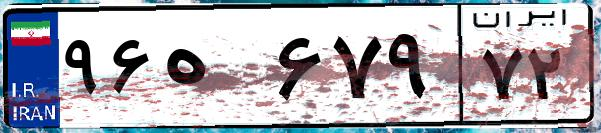2: (525, 38, 570, 115)
6: (270, 28, 330, 110), (110, 28, 158, 98)
7: (330, 28, 385, 110), (475, 38, 525, 113)
9: (385, 28, 445, 110), (57, 26, 110, 100)
ه: (158, 20, 270, 120)
